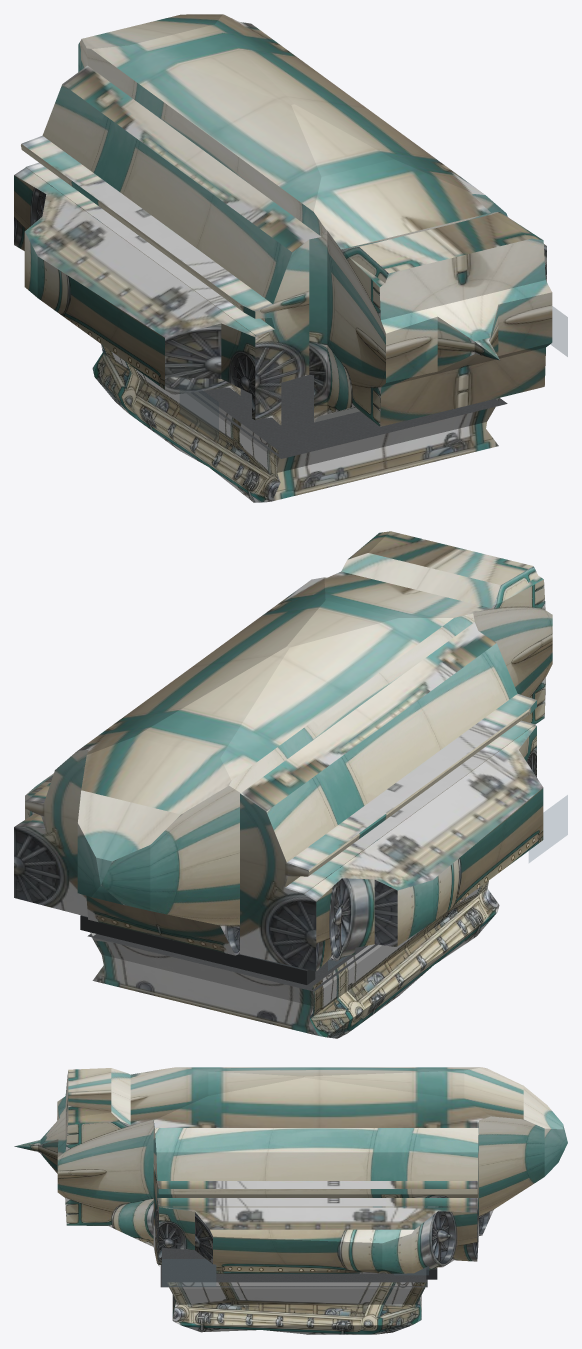
The model's file is cargo_aerostat.glb.
The picture shows the model from 3 angles, top to bottom: view 1: azimuth 30°, elevation 25°; view 2: azimuth 150°, elevation 25°; view 3: azimuth 270°, elevation 25°; orthographic projection. The views are drawn at different scales.
Visible parts, largest first — view 1: cargo_aerostat, cargo_aerostat_cabin; view 2: cargo_aerostat, cargo_aerostat_cabin; view 3: cargo_aerostat, cargo_aerostat_cabin.
Part boxes in pixels (x1,y1,x2,y2): cargo_aerostat: [14, 14, 552, 502]; cargo_aerostat_cabin: [180, 306, 567, 458]; cargo_aerostat: [14, 531, 552, 1038]; cargo_aerostat_cabin: [80, 795, 567, 991]; cargo_aerostat: [14, 1067, 567, 1334]; cargo_aerostat_cabin: [160, 1247, 437, 1287].
Bounding box in the file's own units: 11.37 × 8.93 × 19.98.
11 materials, 4 textured.
